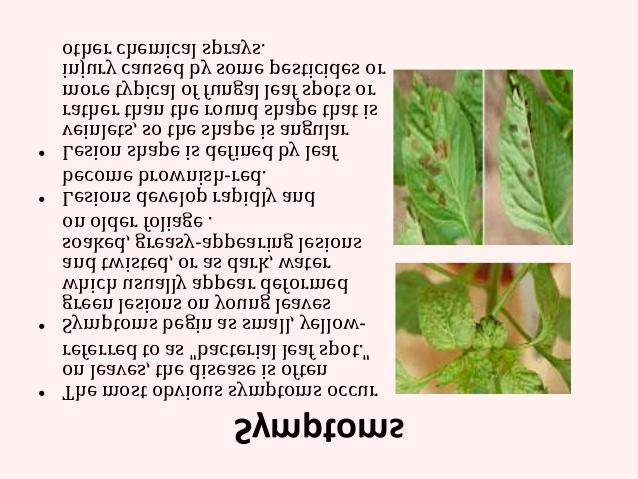Tomato leaf bacterial spot: (496, 78, 569, 243), (404, 79, 476, 241), (417, 273, 480, 348)
